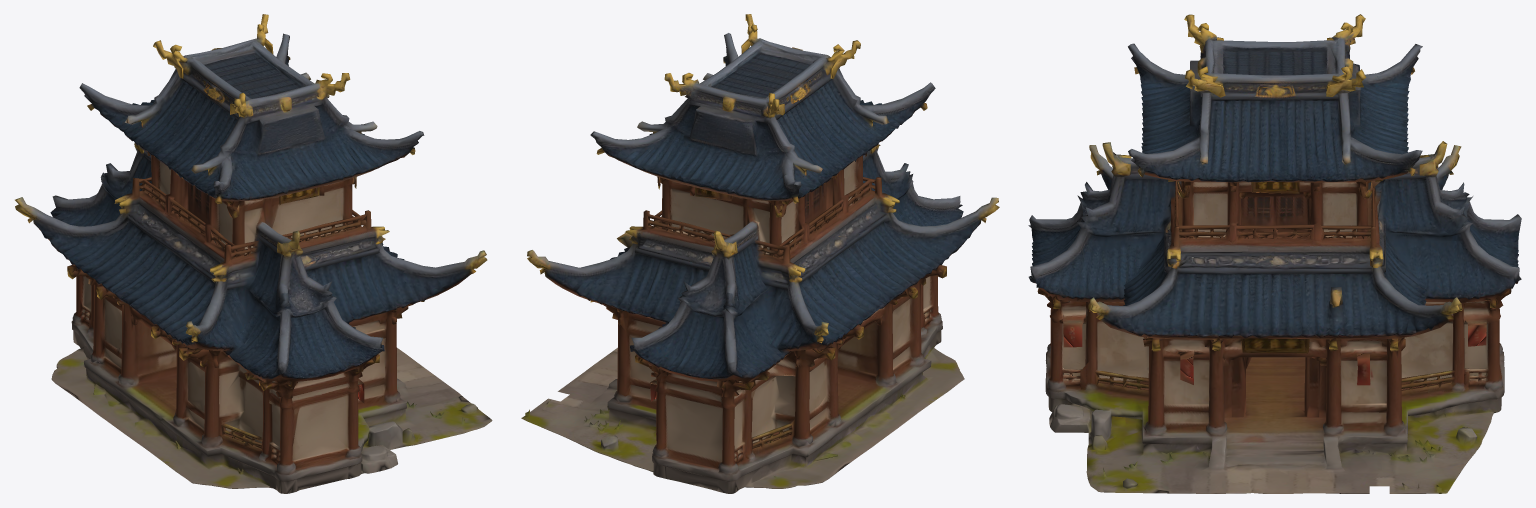
3 views of the same model, side by side, from view 1: azimuth 30°, elevation 25°; view 2: azimuth 150°, elevation 25°; view 3: azimuth 270°, elevation 25° (orthographic). The views are drawn at different scales.
Parts seen in each view (by area): view 1: tripo_node_aa61af6d-8454-4ebd-b86f-84c4ce34e268; view 2: tripo_node_aa61af6d-8454-4ebd-b86f-84c4ce34e268; view 3: tripo_node_aa61af6d-8454-4ebd-b86f-84c4ce34e268.
Part boxes in pixels (bbox=[...]): tripo_node_aa61af6d-8454-4ebd-b86f-84c4ce34e268: bbox=[15, 14, 492, 493]; tripo_node_aa61af6d-8454-4ebd-b86f-84c4ce34e268: bbox=[521, 14, 999, 493]; tripo_node_aa61af6d-8454-4ebd-b86f-84c4ce34e268: bbox=[1028, 14, 1521, 493].
Size of the model in its own units: 0.7831 by 0.8228 by 1.
Materials: 1 (1 with a texture image).
